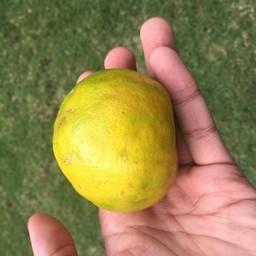Good_orange: (49, 61, 188, 213)
